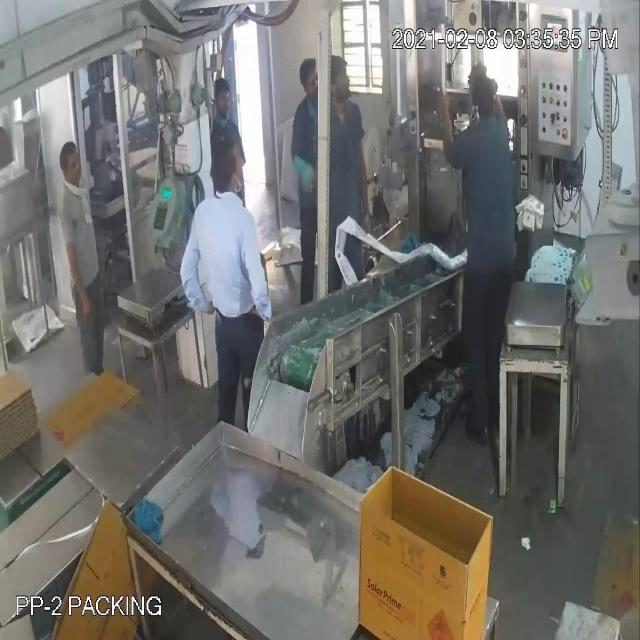No_Gloves: (26, 50, 451, 289)
